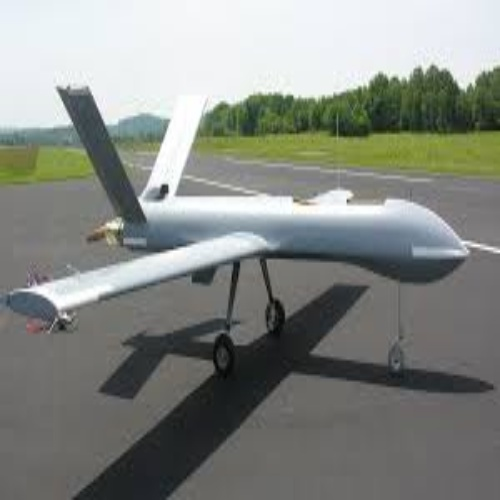uav165: (9, 79, 471, 379)
